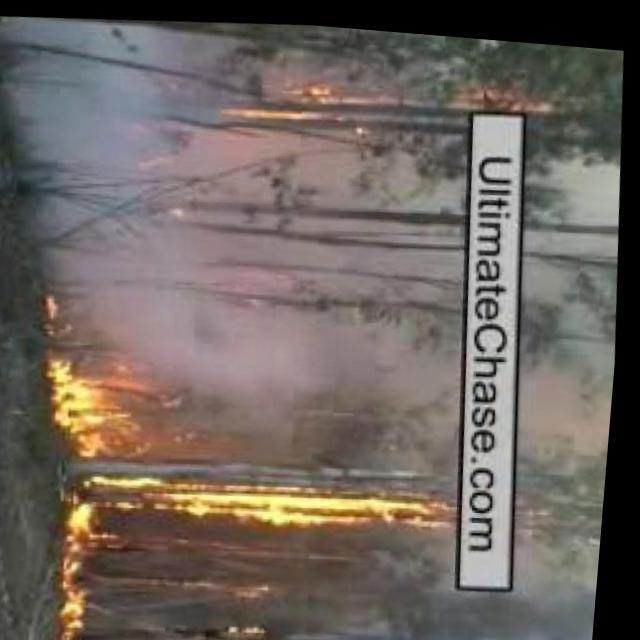Fire: (45, 364, 158, 640), (136, 461, 476, 549), (207, 64, 355, 136), (465, 63, 556, 118), (224, 609, 276, 636)
